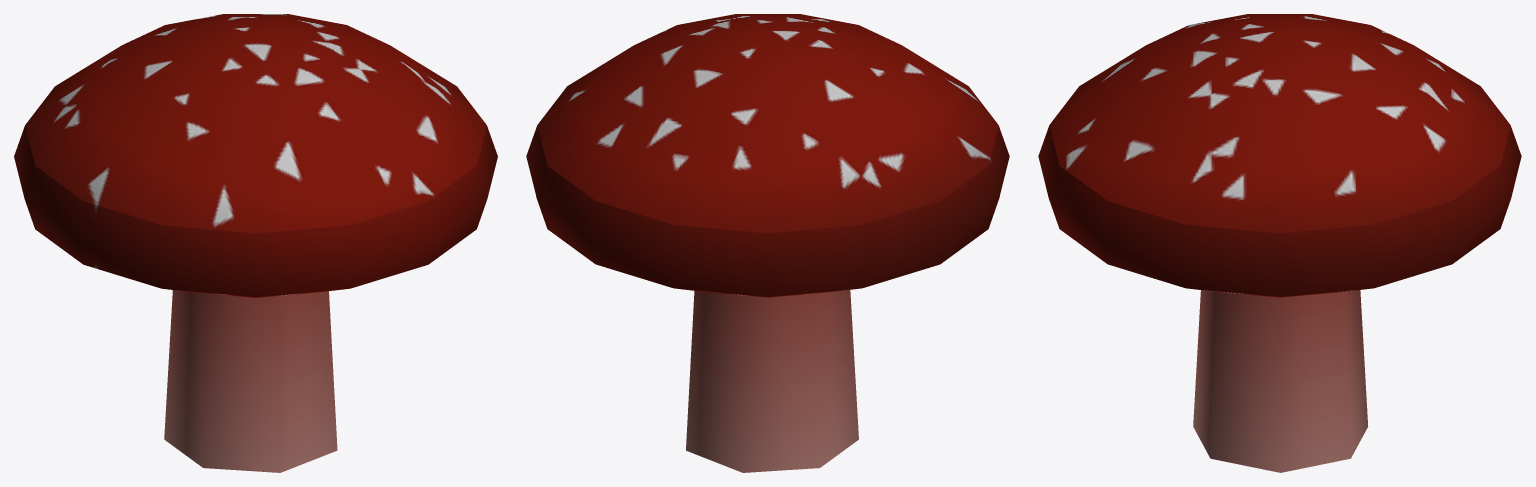
File: Mushroom.FBX
The picture shows the model from 3 angles, left to right: view 1: azimuth 30°, elevation 25°; view 2: azimuth 150°, elevation 25°; view 3: azimuth 270°, elevation 25°; orthographic projection.
Parts seen in each view (by area): view 1: Cylinder001; view 2: Cylinder001; view 3: Cylinder001.
Part boxes in pixels (x1=…): Cylinder001: x1=14, y1=14, x2=497, y2=472; Cylinder001: x1=526, y1=14, x2=1009, y2=472; Cylinder001: x1=1038, y1=14, x2=1521, y2=472.
Size of the model in its own units: 4.92 by 4.52 by 4.95.
1 material, 1 textured.
